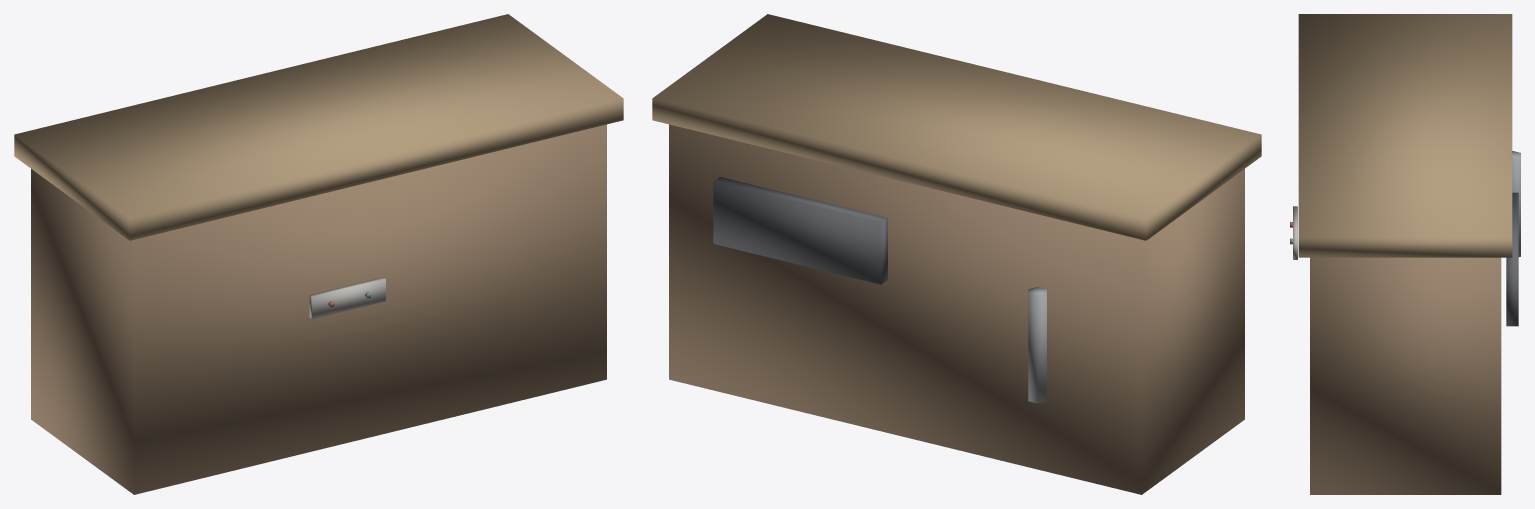
Rendered from host_stand__service.glb.
3 renders of one model, left to right at view 1: azimuth 30°, elevation 25°; view 2: azimuth 150°, elevation 25°; view 3: azimuth 270°, elevation 25°, orthographic. The views are drawn at different scales.
Visible parts, largest first — view 1: world; view 2: world; view 3: world.
Part boxes in pixels (bbox=[...]): world: bbox=[14, 14, 623, 494]; world: bbox=[652, 14, 1261, 494]; world: bbox=[1290, 14, 1520, 494].
Bounding box in the file's own units: 1.88 × 1.03 × 0.8213.
